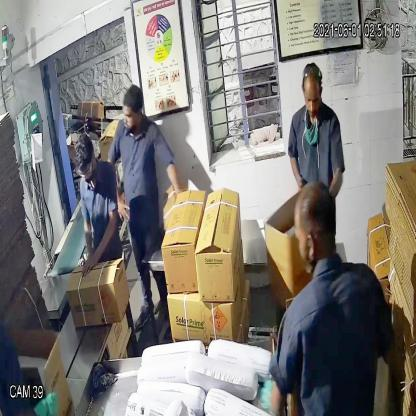goggles: (72, 158, 100, 185)
no_goggles: (301, 85, 324, 110)
